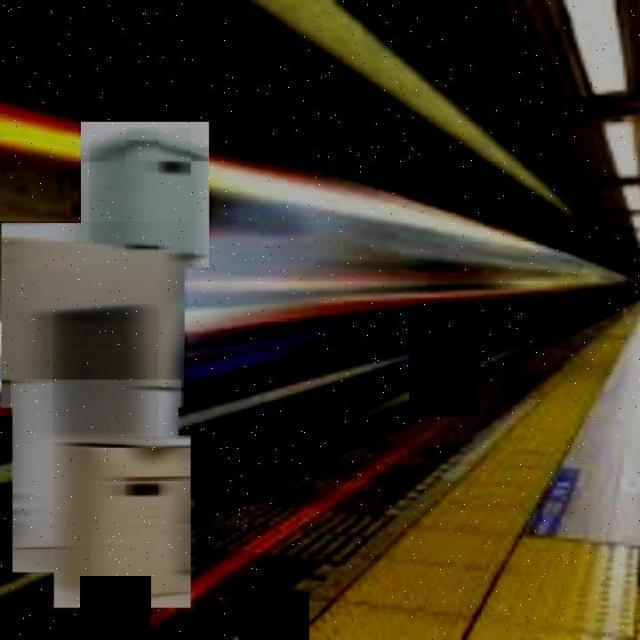box: (0, 221, 188, 411), (10, 379, 182, 576), (52, 434, 195, 610), (79, 120, 212, 270)
